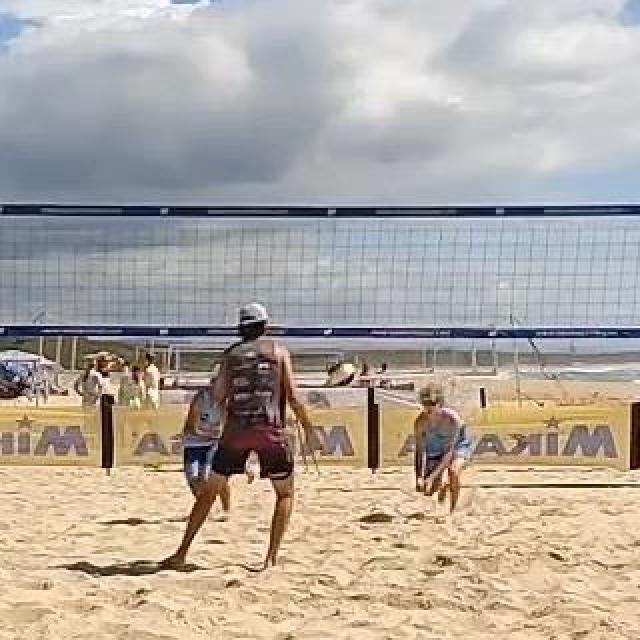volleyball: (328, 360, 358, 386)
